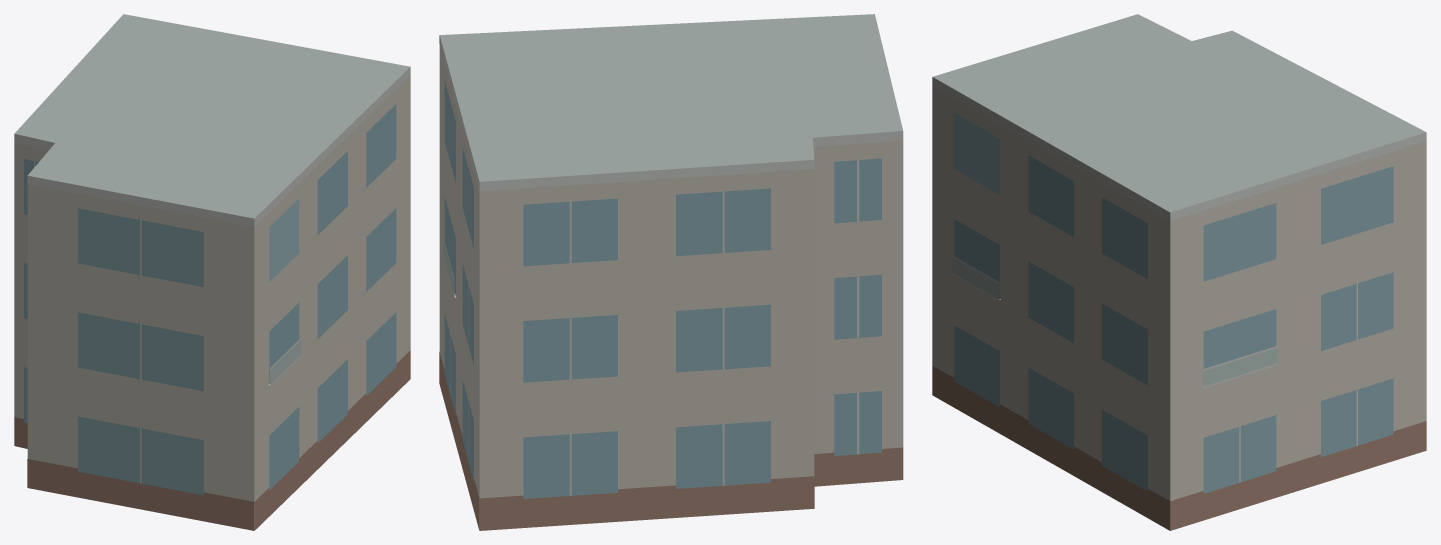
Rendered from survey-upis-32693867.glb.
The picture shows the model from 3 angles, left to right: view 1: azimuth 30°, elevation 25°; view 2: azimuth 150°, elevation 25°; view 3: azimuth 270°, elevation 25°; orthographic projection. The views are drawn at different scales.
Parts seen in each view (by area): view 1: survey-upis-32693867.tmp; view 2: survey-upis-32693867.tmp; view 3: survey-upis-32693867.tmp.
Boxes of the visible parts, x1,y1,x2,y2 form: survey-upis-32693867.tmp: (14,14,410,530); survey-upis-32693867.tmp: (439,14,903,530); survey-upis-32693867.tmp: (932,14,1426,530).
Bounding box in the file's own units: 12.24 × 9.15 × 12.88.
